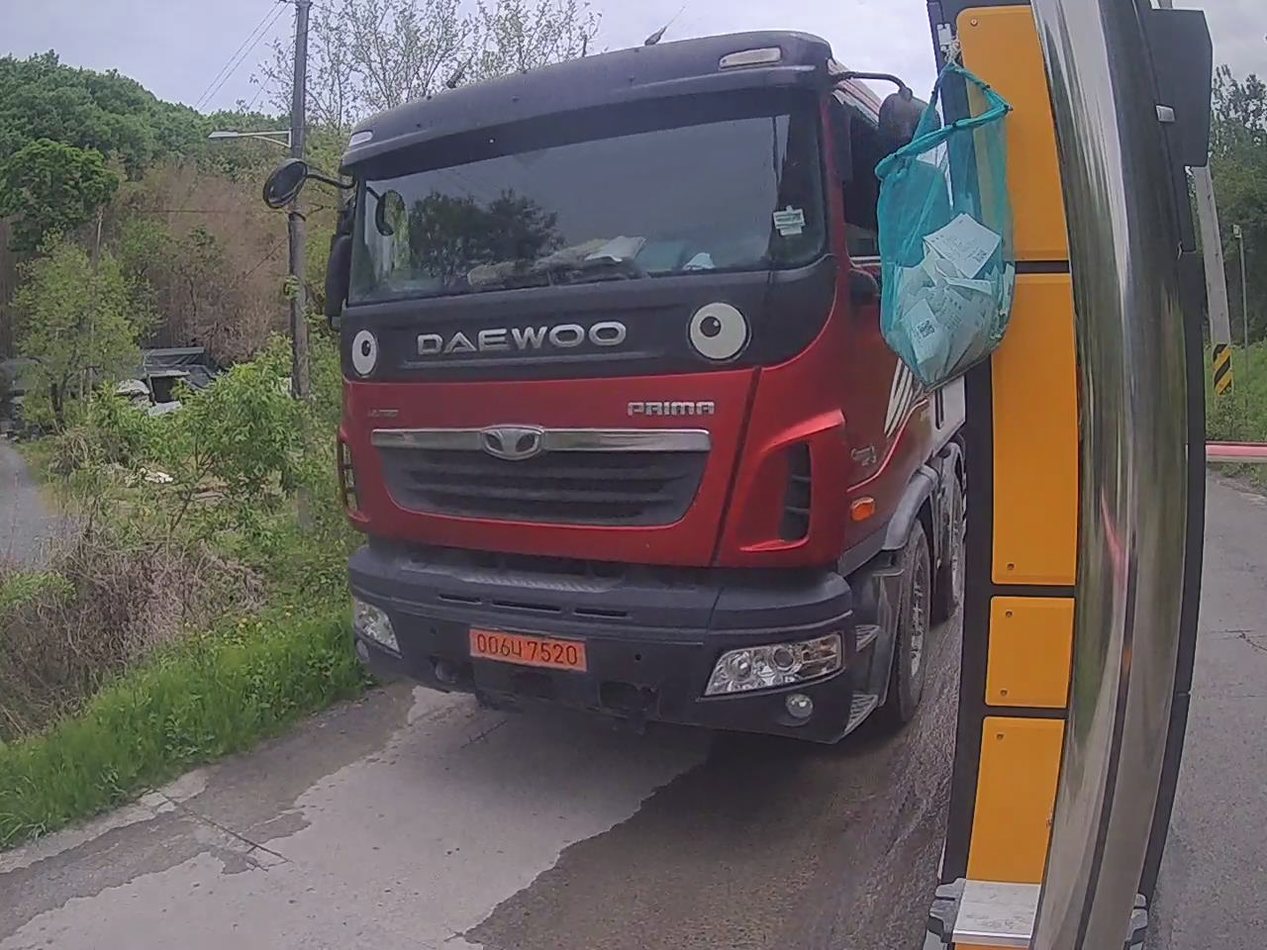license_plate: (470, 629, 586, 672)
truck: (324, 33, 965, 742)
